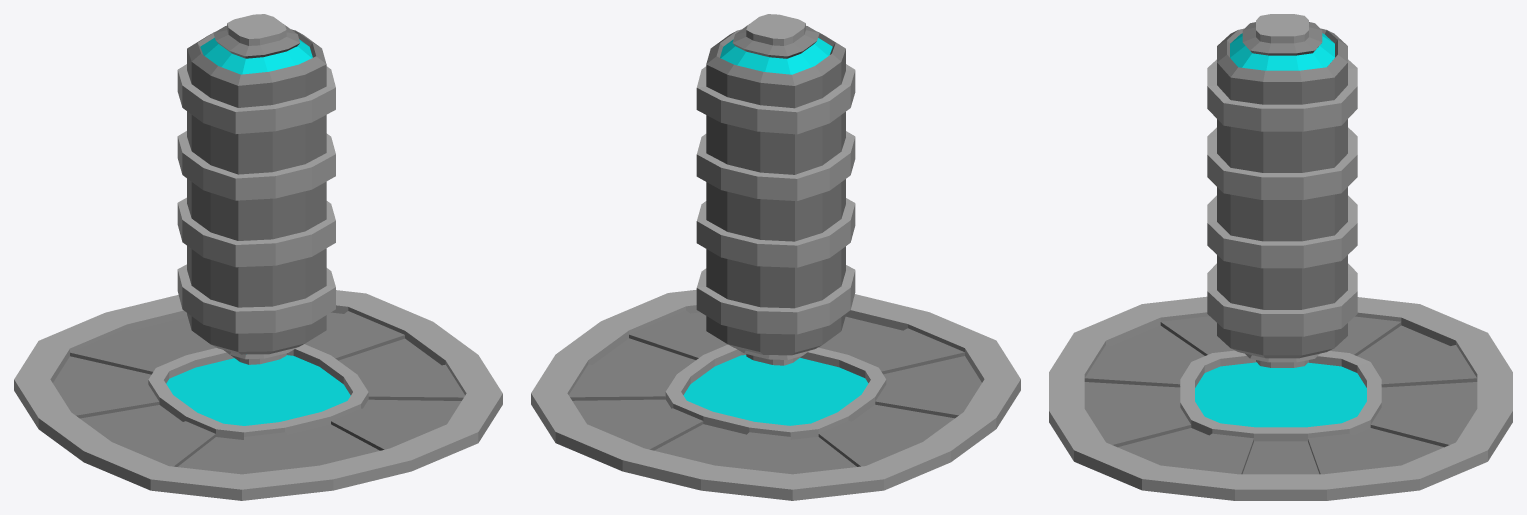
The model's file is Battery.fbx.
3 views of the same model, side by side, from view 1: azimuth 30°, elevation 25°; view 2: azimuth 150°, elevation 25°; view 3: azimuth 270°, elevation 25° (orthographic).
Parts seen in each view (by area): view 1: Battery_Spawner, Battery; view 2: Battery_Spawner, Battery; view 3: Battery_Spawner, Battery.
Part boxes in pixels (x1=…): Battery_Spawner: x1=14, y1=290, x2=502, y2=500; Battery: x1=177, y1=14, x2=335, y2=364; Battery_Spawner: x1=531, y1=289, x2=1020, y2=500; Battery: x1=696, y1=14, x2=855, y2=365; Battery_Spawner: x1=1049, y1=296, x2=1512, y2=500; Battery: x1=1207, y1=14, x2=1357, y2=367.
Bounding box in the file's own units: 167 × 150 × 167.
